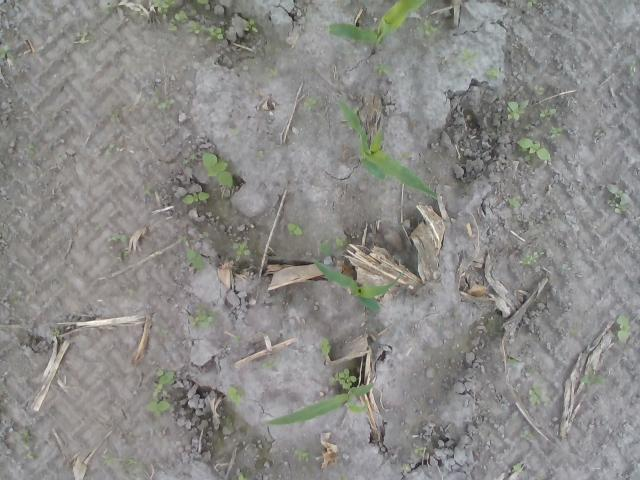Maize: (337, 98, 441, 200), (263, 382, 375, 426), (312, 258, 402, 312), (328, 0, 427, 49)
Weeds: (168, 0, 232, 43), (202, 151, 236, 188), (514, 136, 552, 162), (152, 367, 176, 401), (190, 302, 219, 329), (328, 366, 356, 390), (15, 430, 36, 460), (606, 183, 626, 213), (143, 399, 176, 417), (616, 312, 633, 345), (152, 88, 176, 110), (414, 20, 439, 41), (184, 248, 206, 270), (580, 368, 610, 384), (457, 46, 478, 68), (506, 100, 529, 120), (232, 238, 252, 261), (520, 248, 544, 267), (76, 24, 96, 46), (536, 103, 560, 121), (528, 382, 546, 406), (152, 0, 176, 17), (181, 190, 209, 204), (228, 383, 245, 406), (292, 447, 312, 463), (104, 143, 124, 159), (286, 222, 304, 238), (372, 63, 392, 77), (160, 327, 177, 343), (24, 144, 40, 160), (0, 46, 12, 66), (244, 16, 258, 33), (504, 354, 522, 367), (487, 66, 503, 80), (303, 96, 317, 112), (10, 288, 24, 304), (506, 196, 521, 210), (108, 231, 129, 241), (531, 83, 545, 96), (334, 238, 348, 251), (177, 233, 190, 247), (320, 241, 332, 256), (320, 336, 331, 352), (260, 359, 278, 368), (628, 64, 638, 80), (102, 454, 116, 465), (100, 4, 114, 15), (548, 128, 561, 138), (511, 463, 524, 473), (110, 111, 120, 124), (401, 463, 412, 473), (526, 0, 538, 9), (0, 322, 9, 334), (414, 446, 424, 456), (270, 66, 280, 76), (143, 185, 152, 196), (400, 152, 410, 161), (53, 327, 62, 337), (520, 430, 528, 441), (255, 150, 263, 161), (190, 152, 197, 164), (232, 128, 241, 137), (95, 223, 104, 232), (302, 10, 312, 18), (528, 120, 536, 129), (127, 458, 137, 465), (238, 473, 248, 480), (359, 406, 369, 412), (233, 336, 240, 343), (140, 10, 146, 16)
